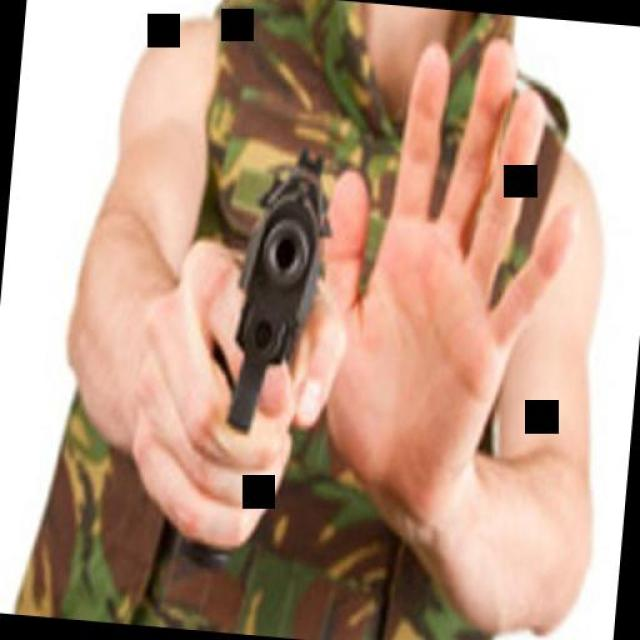gun: (195, 120, 343, 469)
